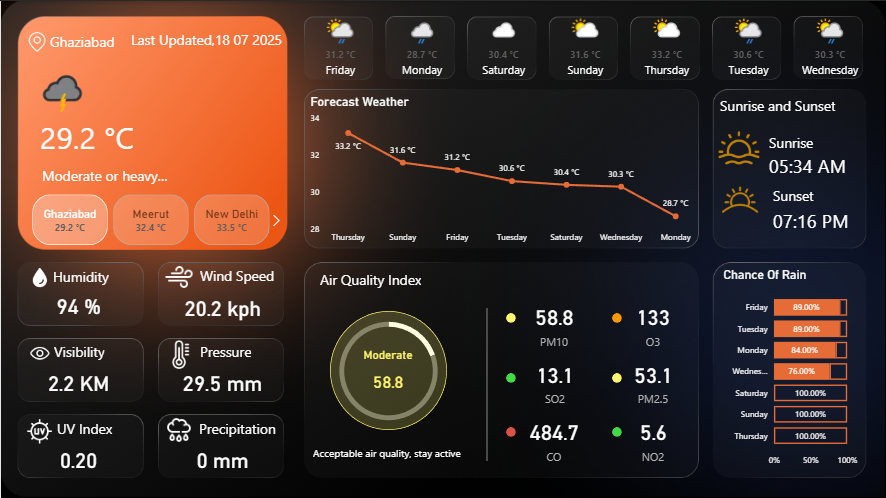

The page's visual inventory and layout, read from the dashboard file:
{"tool":"powerbi","page":{"name":"Page 1","canvas":[1280,720],"ordinal":0},"visuals":[{"type":"donutChart","fields":{"Y":["Sum(Current.current.air_quality.pm10)","_Measures.Left_Value_PM10"]},"box":[462.5,440.3,195.2,188],"z":0},{"type":"shape","box":[475.5,447.6,169.2,172],"z":1000},{"type":"advancedSlicerVisual","fields":{"Values":["Location.location.name"]},"box":[19.8,275.2,393.7,83.6],"z":2000},{"type":"cardVisual","fields":{"Data":["Min(Current.current.condition.icon)"]},"box":[31.9,69.9,145.9,117.1],"z":3000},{"type":"shape","box":[56.4,163.4,164.8,63.6],"z":4000},{"type":"shape","box":[59.3,235.7,198.1,30.4],"z":5000},{"type":"shape","box":[70.8,41.9,107,30.4],"z":6000},{"type":"shape","box":[170.9,39.6,235.7,30.1],"z":7000},{"type":"image","box":[33.3,39,37.6,39],"z":8000},{"type":"shape","box":[75.2,381.7,107,30.4],"z":9000},{"type":"shape","box":[287.7,380.2,128.7,30.4],"z":10000},{"type":"shape","box":[76.6,490.1,107,30.4],"z":11000},{"type":"shape","box":[287.7,490.1,107,30.4],"z":12000},{"type":"shape","box":[286.3,601.4,128.7,30.4],"z":13000},{"type":"shape","box":[81,601.4,107,30.4],"z":14000},{"type":"image","box":[31.8,597.1,47.7,49.2],"z":15000},{"type":"image","box":[36.1,378.8,40.5,41.9],"z":16000},{"type":"image","box":[34.7,485.8,43.4,47.7],"z":17000},{"type":"image","box":[231.3,594.2,52,52],"z":18000},{"type":"image","box":[231.3,485.8,56.4,50.6],"z":19000},{"type":"image","box":[231.3,373,52,52],"z":20000},{"type":"card","fields":{"Values":["_Measures.Humidity"]},"box":[36.1,409.2,151.8,60.7],"z":21000},{"type":"card","fields":{"Values":["_Measures.Wind_Speed"]},"box":[243.7,411.4,151.9,61.7],"z":22000},{"type":"card","fields":{"Values":["_Measures.Pressure"]},"box":[243.7,520.5,151.9,60.1],"z":23000},{"type":"card","fields":{"Values":["_Measures.Visiblity"]},"box":[36.4,520.5,151.9,60.1],"z":24000},{"type":"card","fields":{"Values":["Sum(Current.current.uv)"]},"box":[36.4,631.3,151.9,60.1],"z":25000},{"type":"card","fields":{"Values":["_Measures.Precipition"]},"box":[243.7,631.3,151.9,60.1],"z":26000},{"type":"advancedSlicerVisual","fields":{"Values":["Forecast_Day.Day_Name"]},"box":[430.2,13.7,830,114],"z":27000},{"type":"lineChart","title":"Forecast Weather","fields":{"Y":["Avg(Forecast_Day.forecast.forecastday.day.avgtemp_c)"],"Category":["Forecast_Day.Day_Name"]},"box":[442.4,134.5,569.6,225.5],"z":28000},{"type":"shape","box":[1039.8,133.8,194.6,30.4],"z":29000},{"type":"shape","box":[1109.7,205.2,164.2,63.8],"z":30000},{"type":"shape","box":[1115.8,284.3,164.2,63.8],"z":31000},{"type":"image","box":[1026.5,247.2,83.9,79.5],"z":32000},{"type":"image","box":[1029.4,177.8,75.2,69.4],"z":33000},{"type":"shape","box":[1109.7,188.5,127.7,30.4],"z":34000},{"type":"shape","box":[1115.8,264.5,127.7,30.4],"z":35000},{"type":"hundredPercentStackedBarChart","title":"Chance Of Rain","fields":{"Y":["Sum(Forecast_Day.forecast.forecastday.day.daily_chance_of_rain)","_Measures.Left_Value_Rain"],"Category":["Forecast_Day.Day_Name"]},"box":[1039.5,384.6,203.9,297.8],"z":36000},{"type":"shape","box":[461.2,386,195.2,30.4],"z":37000},{"type":"card","fields":{"Values":["Sum(Current.current.air_quality.o3)"]},"box":[865.6,428,153.3,78.1],"z":38000},{"type":"card","fields":{"Values":["Sum(Current.current.air_quality.pm2_5)"]},"box":[865.6,506,153.3,88.2],"z":39000},{"type":"card","fields":{"Values":["Sum(Current.current.air_quality.no2)"]},"box":[865.6,594.2,153.3,78.1],"z":40000},{"type":"card","fields":{"Values":["Sum(Current.current.air_quality.so2)"]},"box":[723.8,506,153.3,88.2],"z":41000},{"type":"card","fields":{"Values":["Sum(Current.current.air_quality.pm10)"]},"box":[722.3,428,153.3,78.1],"z":42000},{"type":"card","fields":{"Values":["Sum(Current.current.air_quality.co)"]},"box":[722.3,594.2,153.3,78.1],"z":43000},{"type":"shape","box":[729.6,451.1,14.5,14.5],"z":44000},{"type":"shape","box":[882.9,615.9,14.5,14.5],"z":45000},{"type":"shape","box":[882.9,537.8,14.5,14.5],"z":46000},{"type":"shape","box":[882.9,451.1,14.5,14.5],"z":47000},{"type":"shape","box":[729.6,615.9,14.5,14.5],"z":48000},{"type":"shape","box":[729.6,537.8,14.5,14.5],"z":49000},{"type":"shape","box":[689.6,443.9,26,221.2],"z":50000},{"type":"card","fields":{"Values":["Sum(Current.current.air_quality.pm10)"]},"box":[500.1,501.1,118.6,78.1],"z":51000},{"type":"shape","box":[451.1,634.7,253,37.6],"z":52000}]}

Visuals, with their boxes in screenshot pixels (x1, y1, x2, y2), scaled from the page's 1280x720 canvas onto the 886x498 screenshot:
donutChart - Sum(Current.current.air_quality.pm10) x _Measures.Left_Value_PM10: [320, 305, 455, 435]
shape: [329, 310, 446, 429]
advancedSlicerVisual - Location.location.name: [14, 190, 286, 248]
cardVisual - Min(Current.current.condition.icon): [22, 48, 123, 129]
shape: [39, 113, 153, 157]
shape: [41, 163, 178, 184]
shape: [49, 29, 123, 50]
shape: [118, 27, 281, 48]
image: [23, 27, 49, 54]
shape: [52, 264, 126, 285]
shape: [199, 263, 288, 284]
shape: [53, 339, 127, 360]
shape: [199, 339, 273, 360]
shape: [198, 416, 287, 437]
shape: [56, 416, 130, 437]
image: [22, 413, 55, 447]
image: [25, 262, 53, 291]
image: [24, 336, 54, 369]
image: [160, 411, 196, 447]
image: [160, 336, 199, 371]
image: [160, 258, 196, 294]
card - _Measures.Humidity: [25, 283, 130, 325]
card - _Measures.Wind_Speed: [169, 285, 274, 327]
card - _Measures.Pressure: [169, 360, 274, 402]
card - _Measures.Visiblity: [25, 360, 130, 402]
card - Sum(Current.current.uv): [25, 437, 130, 478]
card - _Measures.Precipition: [169, 437, 274, 478]
advancedSlicerVisual - Forecast_Day.Day_Name: [298, 9, 872, 88]
"Forecast Weather" lineChart: [306, 93, 700, 249]
shape: [720, 93, 854, 114]
shape: [768, 142, 882, 186]
shape: [772, 197, 885, 241]
image: [711, 171, 769, 226]
image: [713, 123, 765, 171]
shape: [768, 130, 857, 151]
shape: [772, 183, 861, 204]
"Chance Of Rain" hundredPercentStackedBarChart: [720, 266, 861, 472]
shape: [319, 267, 454, 288]
card - Sum(Current.current.air_quality.o3): [599, 296, 705, 350]
card - Sum(Current.current.air_quality.pm2_5): [599, 350, 705, 411]
card - Sum(Current.current.air_quality.no2): [599, 411, 705, 465]
card - Sum(Current.current.air_quality.so2): [501, 350, 607, 411]
card - Sum(Current.current.air_quality.pm10): [500, 296, 606, 350]
card - Sum(Current.current.air_quality.co): [500, 411, 606, 465]
shape: [505, 312, 515, 322]
shape: [611, 426, 621, 436]
shape: [611, 372, 621, 382]
shape: [611, 312, 621, 322]
shape: [505, 426, 515, 436]
shape: [505, 372, 515, 382]
shape: [477, 307, 495, 460]
card - Sum(Current.current.air_quality.pm10): [346, 347, 428, 401]
shape: [312, 439, 487, 465]
